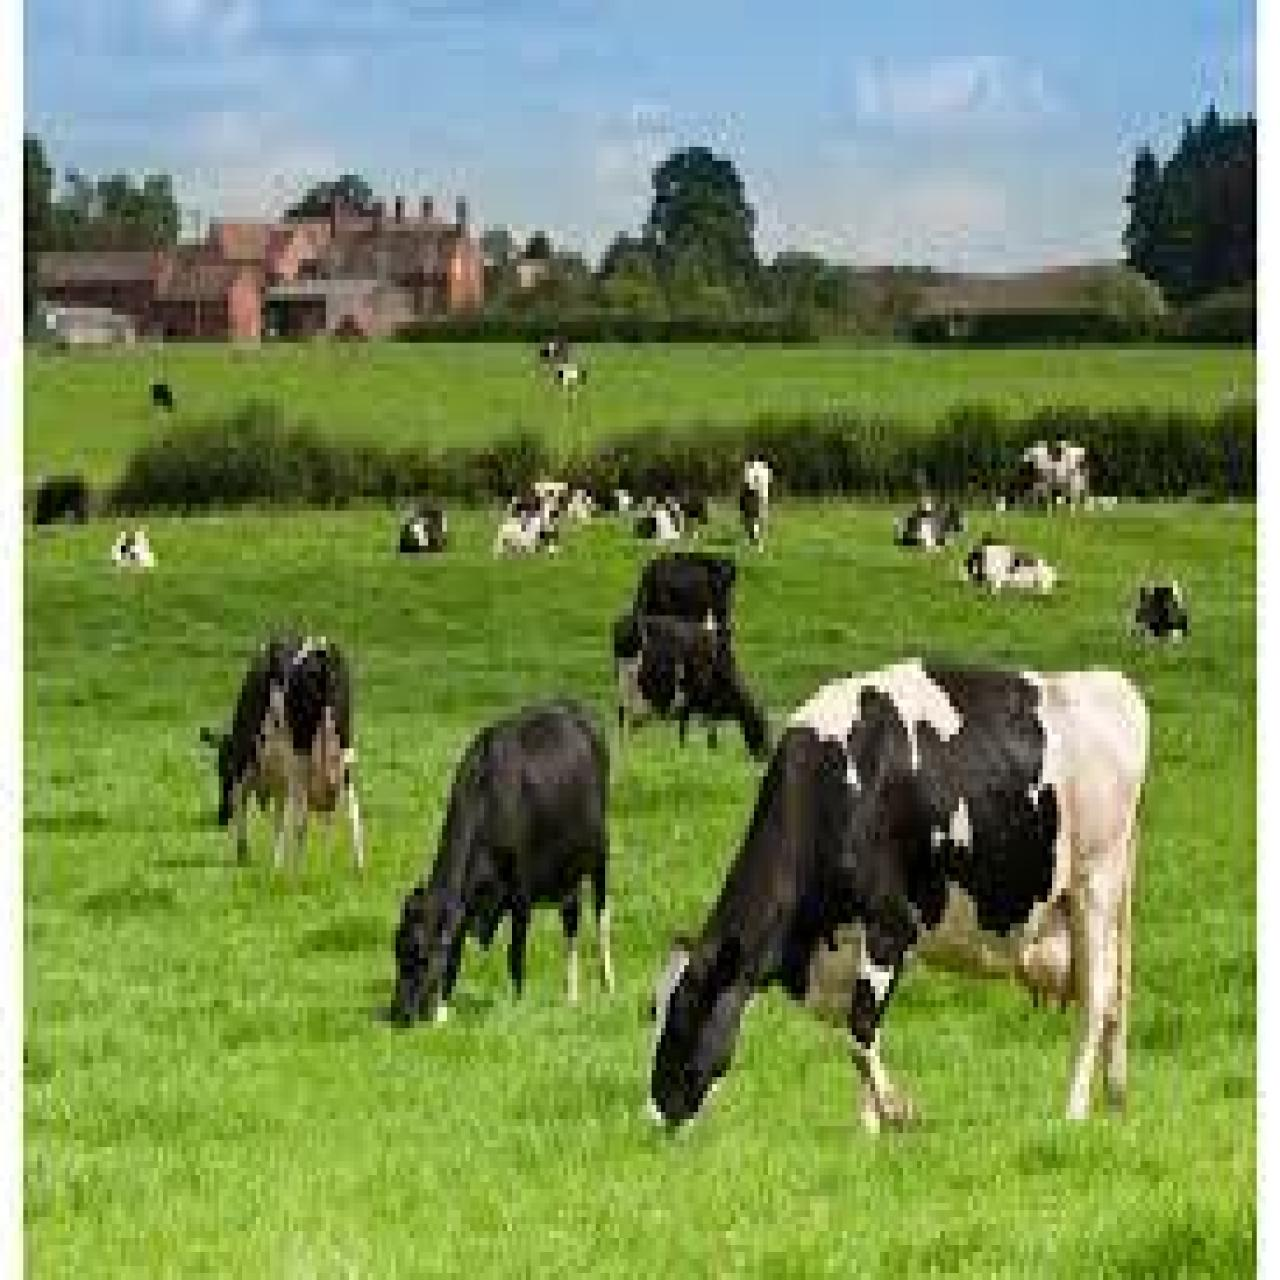cow: (638, 658, 1150, 1141), (388, 696, 617, 1032), (198, 626, 370, 892), (612, 612, 779, 765), (631, 549, 737, 640), (996, 437, 1094, 520), (959, 535, 1061, 605), (493, 493, 564, 563), (1131, 577, 1192, 654), (890, 493, 964, 556), (633, 490, 689, 545), (741, 455, 772, 552), (571, 483, 635, 524), (401, 501, 451, 549), (109, 524, 156, 573)
